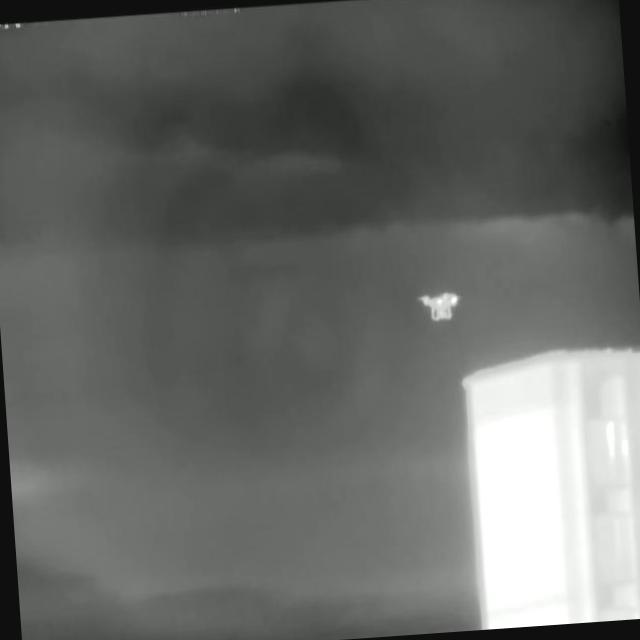DRONE: (414, 289, 468, 322)
